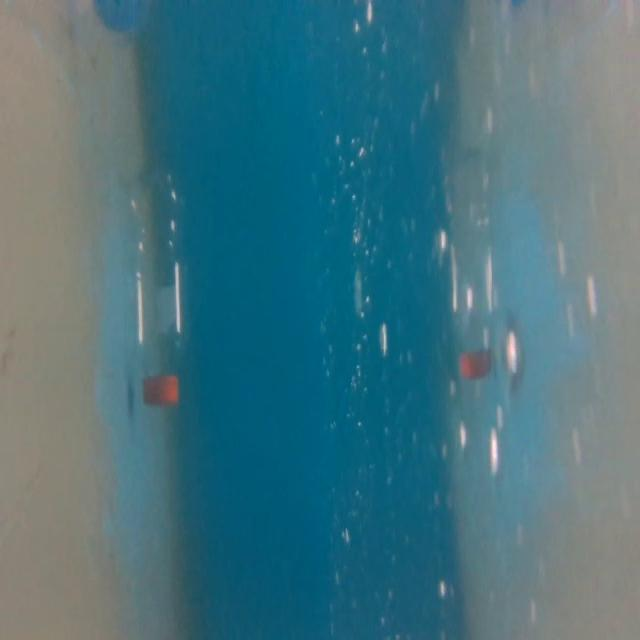plastic bottle: (114, 153, 208, 417)
